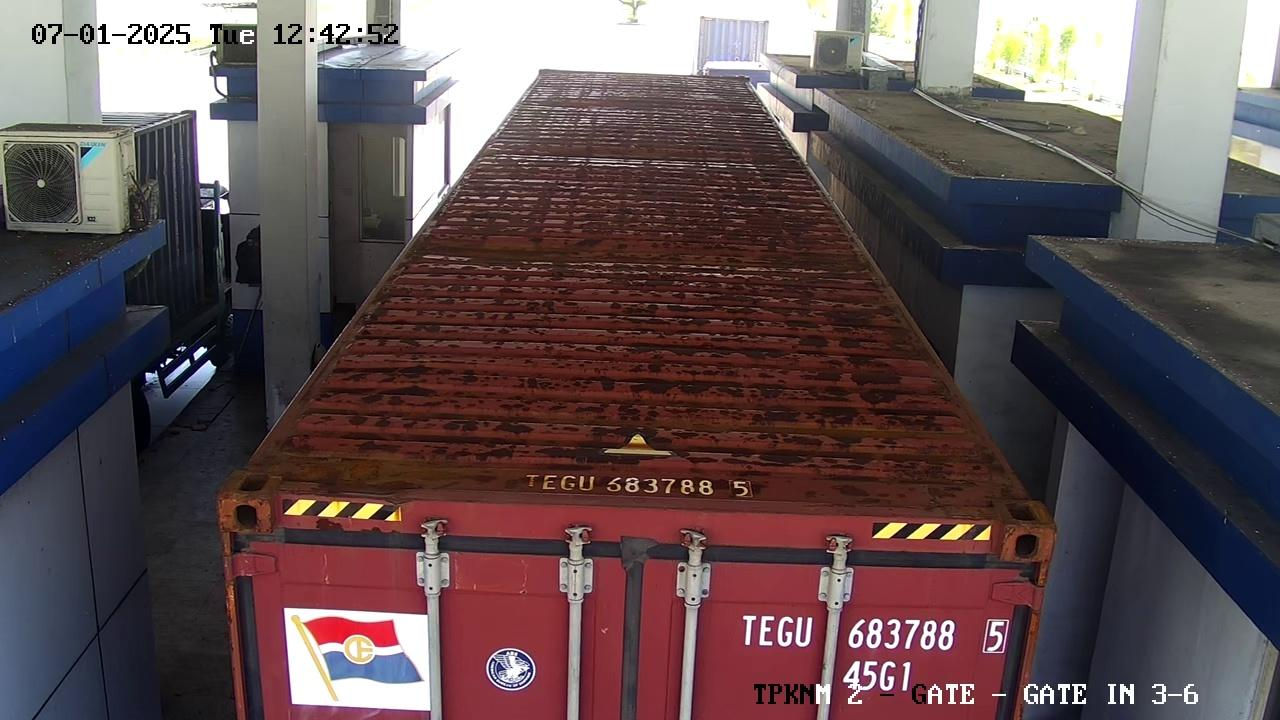Container_ID: (735, 606, 1022, 657), (515, 466, 769, 513)
